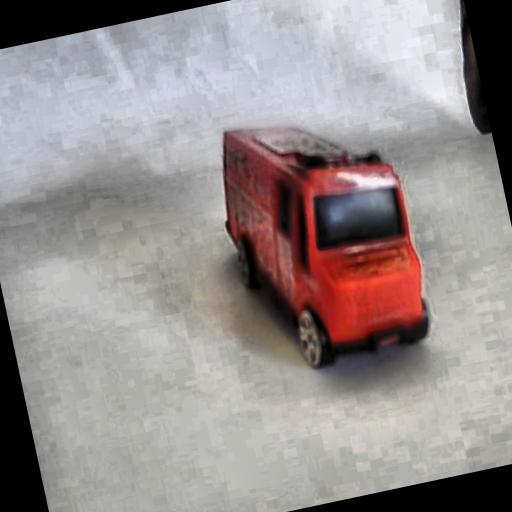fire_truck: (199, 89, 444, 394)
